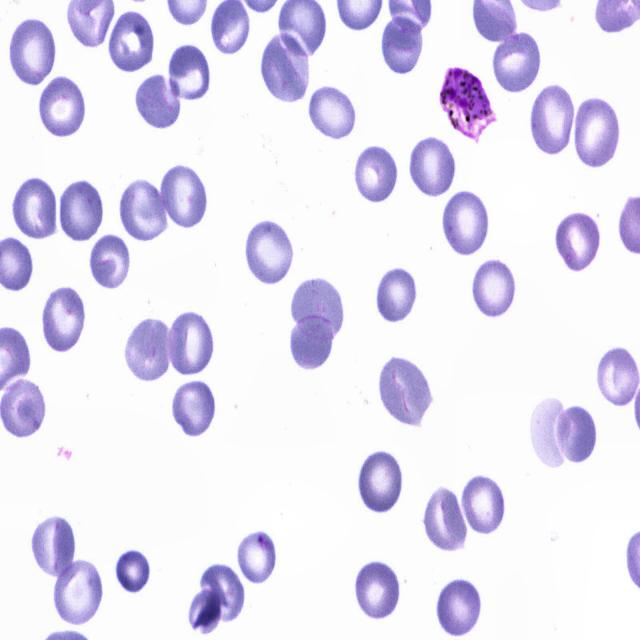red blood cell: (260, 28, 312, 104), (121, 315, 176, 383), (377, 355, 431, 424), (6, 18, 59, 88), (290, 275, 345, 342), (527, 392, 574, 470), (572, 97, 622, 169), (52, 557, 104, 625), (243, 220, 296, 286), (11, 175, 61, 243), (530, 81, 574, 158), (118, 179, 170, 243), (492, 30, 543, 95), (442, 189, 492, 255), (158, 164, 208, 230), (356, 449, 406, 515), (380, 11, 427, 79), (166, 310, 214, 376), (408, 136, 458, 199), (39, 77, 88, 140), (41, 286, 87, 353), (354, 559, 404, 620), (60, 178, 106, 244), (352, 142, 400, 205), (556, 210, 604, 273), (30, 514, 77, 578), (0, 377, 49, 438), (435, 576, 483, 638), (108, 10, 155, 73), (426, 482, 468, 552), (196, 564, 247, 621), (554, 401, 597, 467), (288, 313, 336, 372), (462, 472, 506, 536), (595, 346, 640, 408), (136, 72, 182, 132), (167, 44, 214, 102), (472, 259, 518, 318), (308, 86, 358, 140), (173, 380, 218, 438), (375, 268, 418, 322), (237, 530, 278, 585), (90, 234, 128, 290), (188, 588, 222, 637), (116, 550, 152, 595)
schizont: (439, 65, 498, 145)
